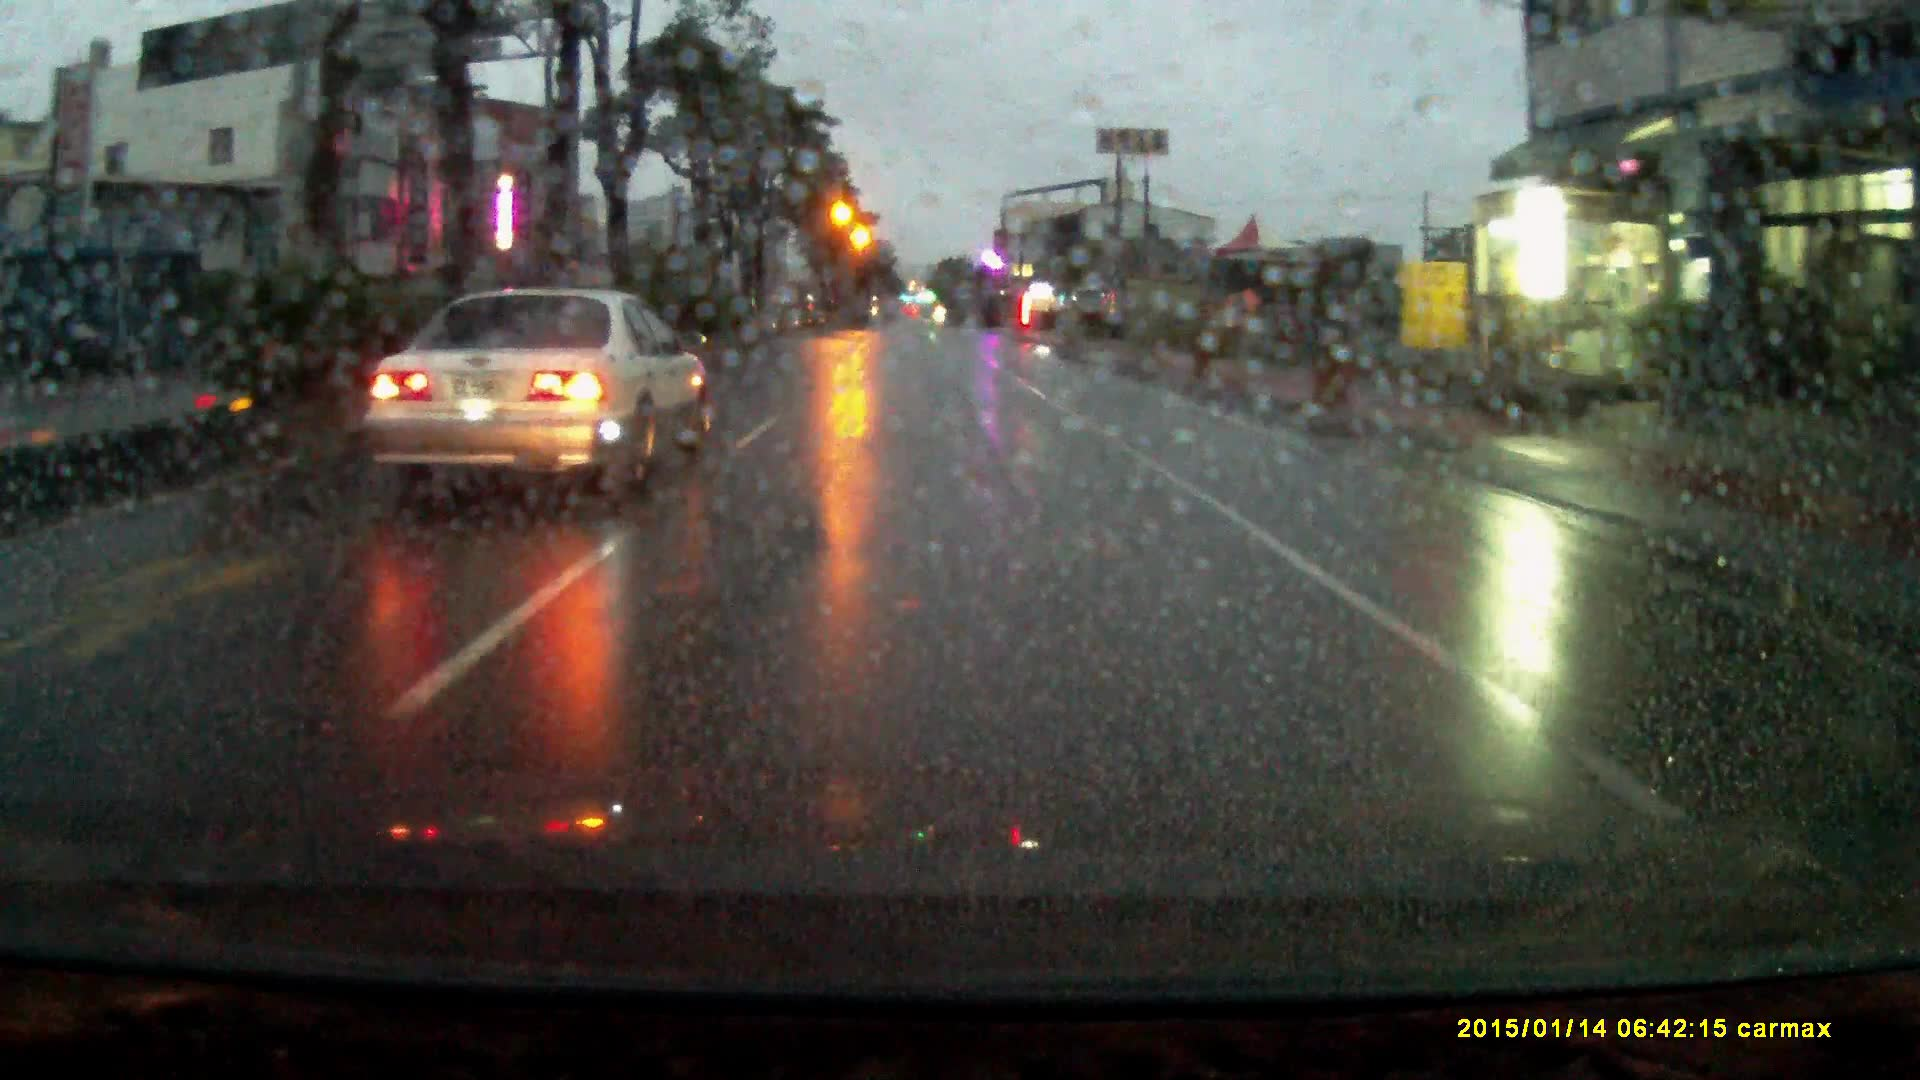vehicle: (357, 289, 713, 509)
